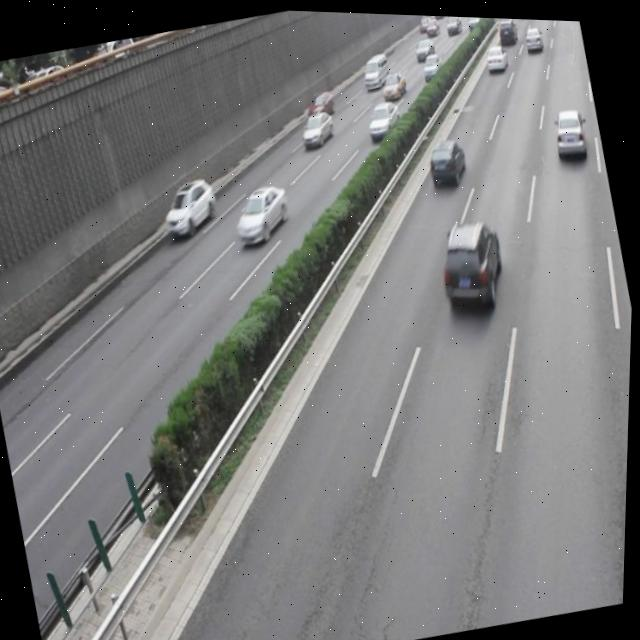car: (431, 210, 512, 313), (157, 172, 224, 241), (229, 178, 296, 246), (422, 130, 470, 188), (547, 102, 590, 158), (363, 95, 403, 138), (297, 105, 337, 147)
